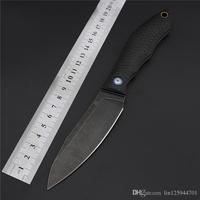knife: (43, 11, 166, 195)
